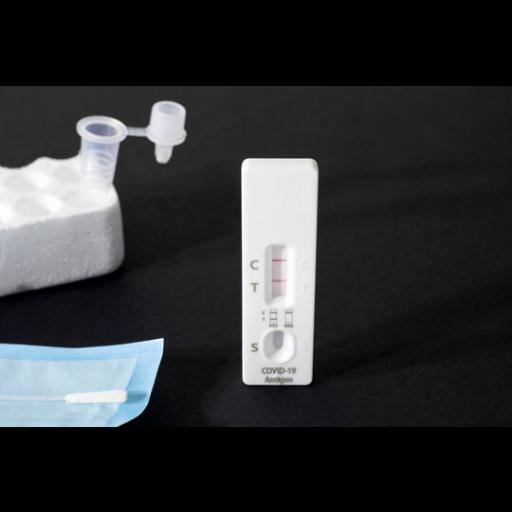Pos: (242, 158, 312, 384)
